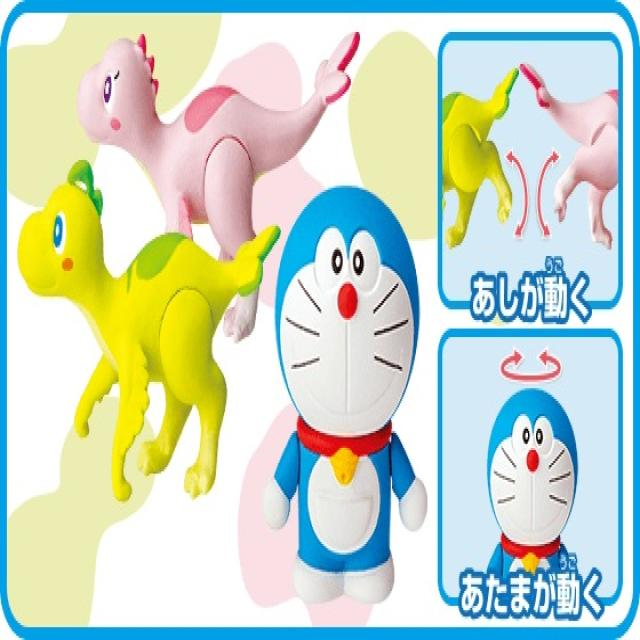doraemon: (264, 169, 435, 516), (478, 371, 583, 591)
